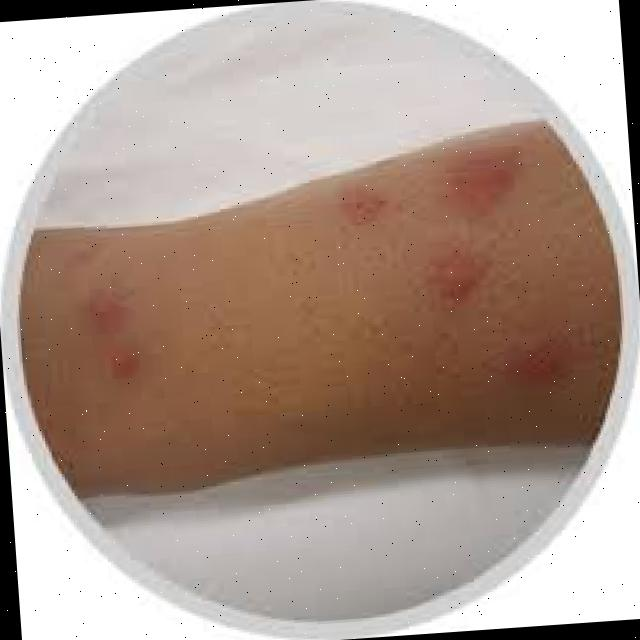kan emici bocekler: (443, 143, 521, 218), (422, 236, 488, 311), (495, 332, 570, 390), (328, 176, 388, 227), (105, 353, 155, 387), (85, 294, 129, 331), (65, 233, 92, 271)
